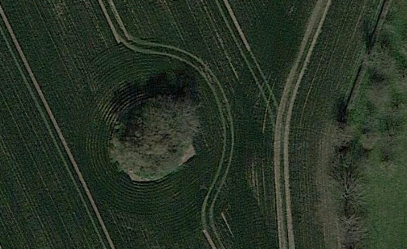tree: (109, 91, 204, 182)
